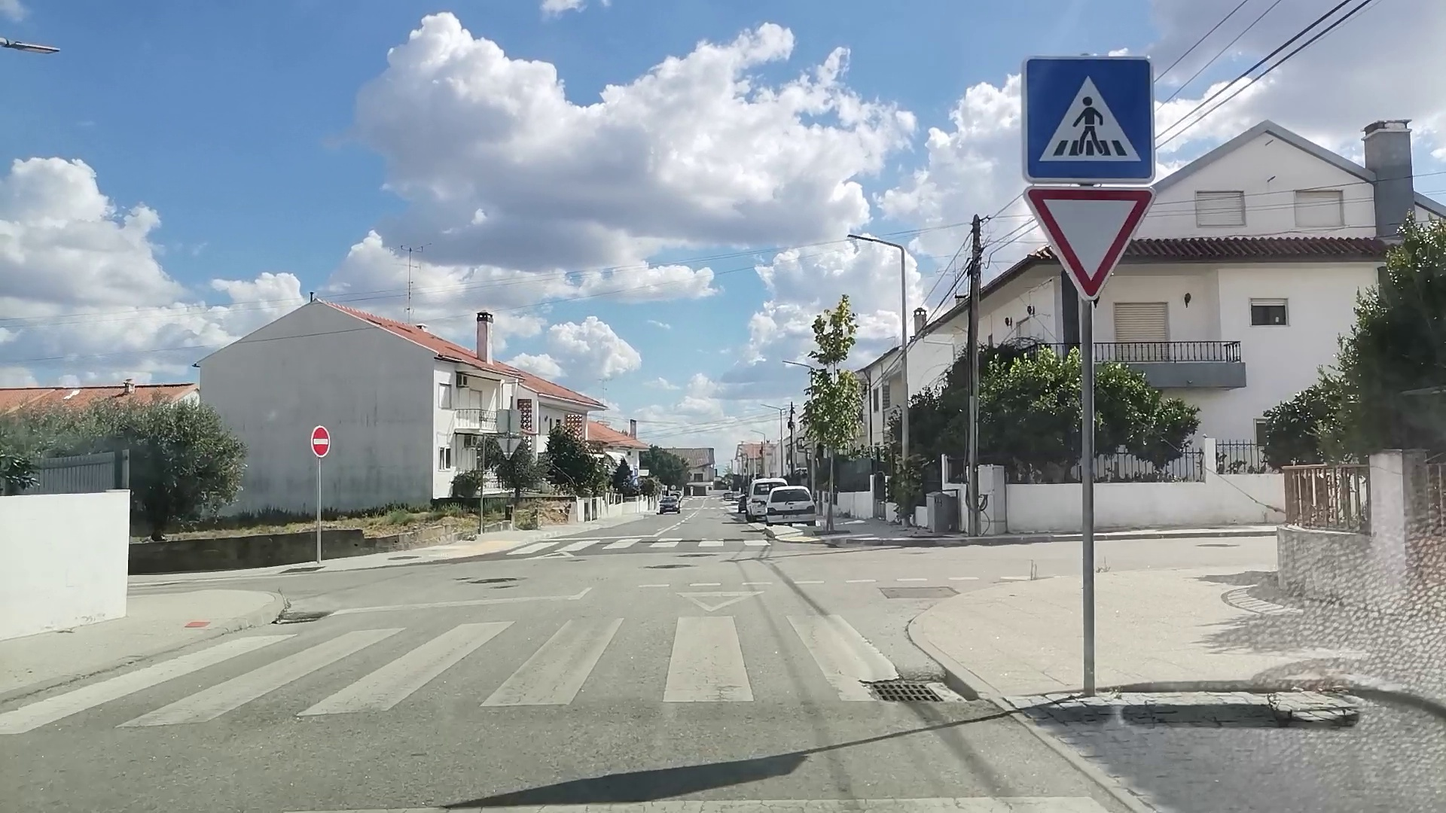Stairs: (0, 621, 920, 736), (505, 535, 780, 553)
